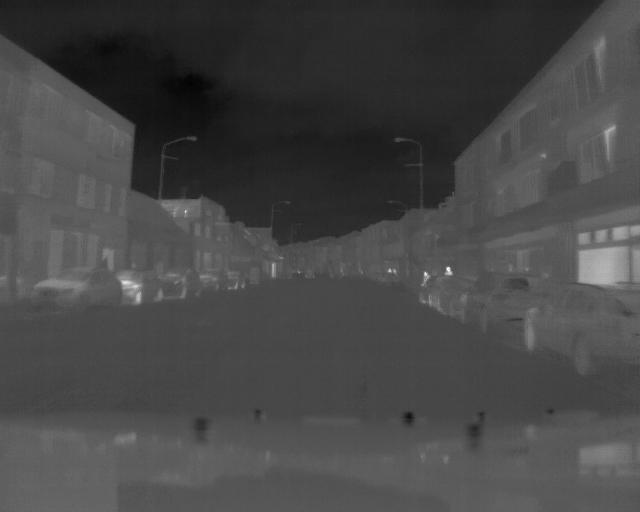car: (523, 282, 638, 379), (31, 268, 123, 310), (119, 267, 163, 307), (222, 267, 247, 294)
person: (421, 267, 430, 288)
